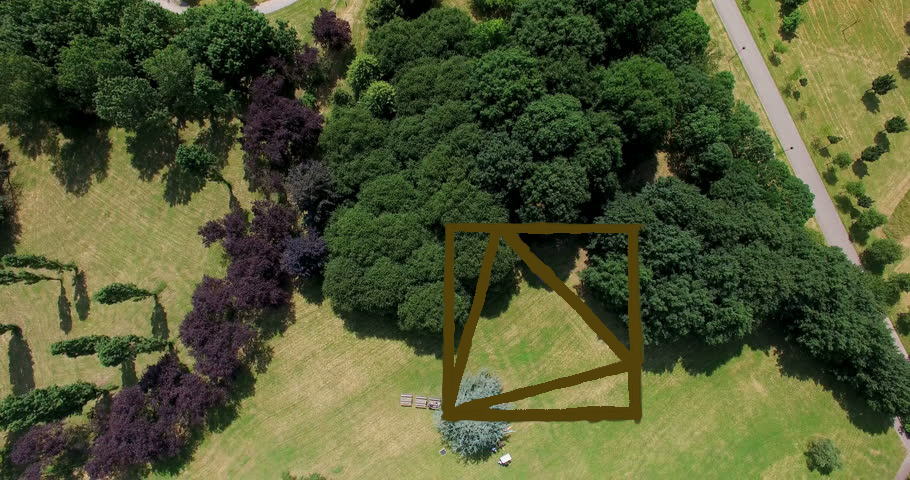marker: (436, 218, 647, 431)
